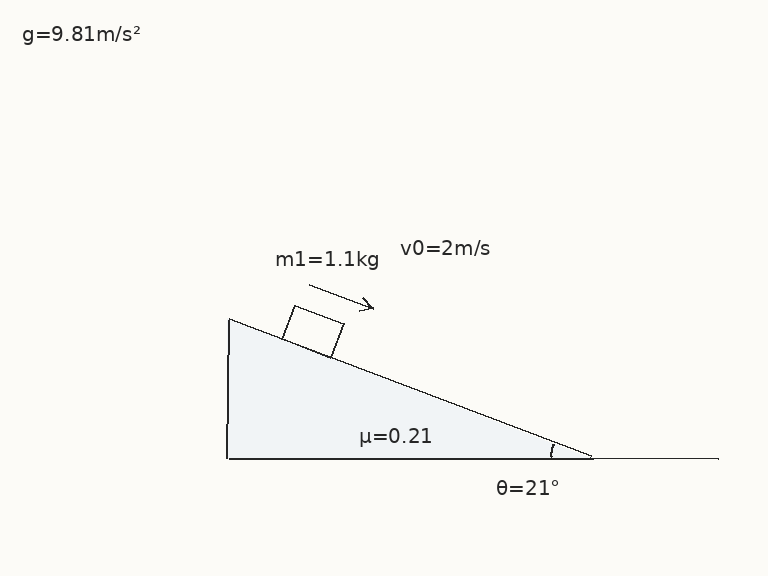block: (280, 302, 345, 360)
ramp: (226, 317, 593, 460)
